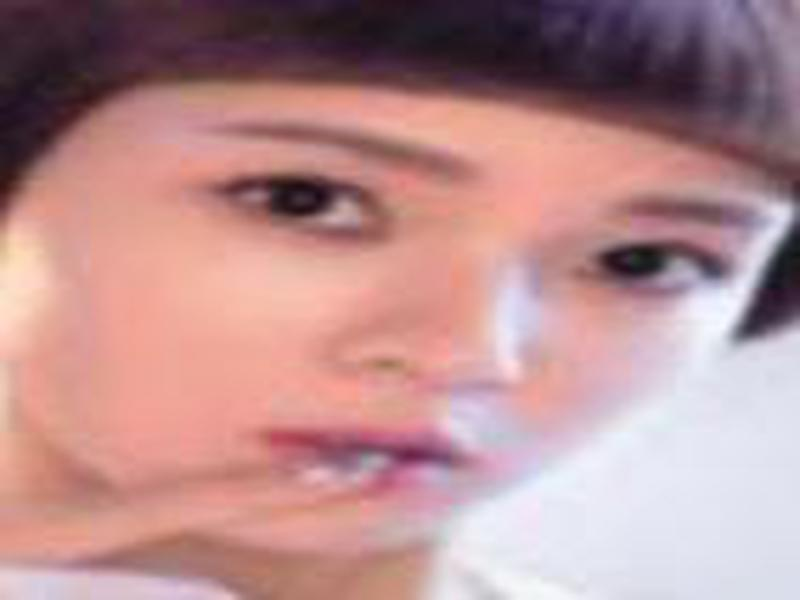without_mask: (8, 48, 797, 561)
